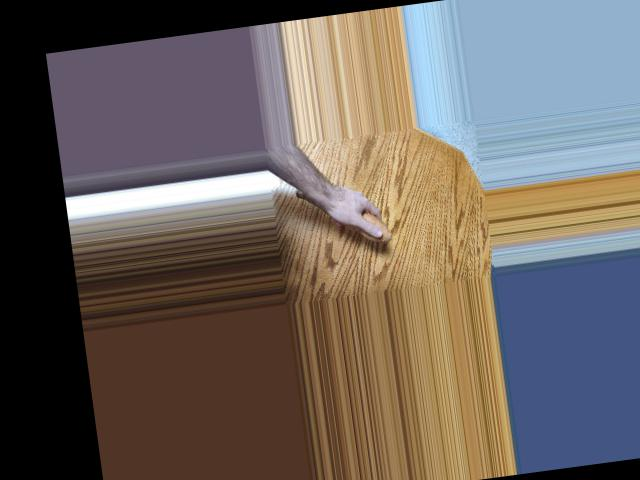sweet_potato: (290, 171, 393, 254)
